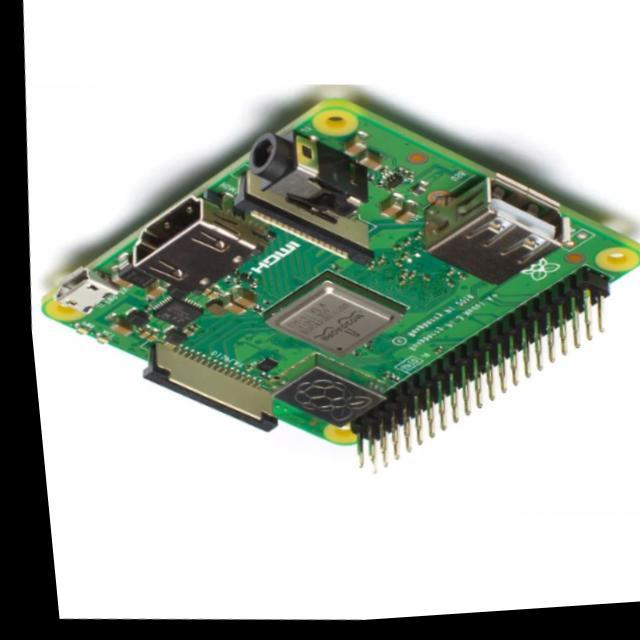Raspberry-Pi-3-A-: (43, 100, 640, 467)
